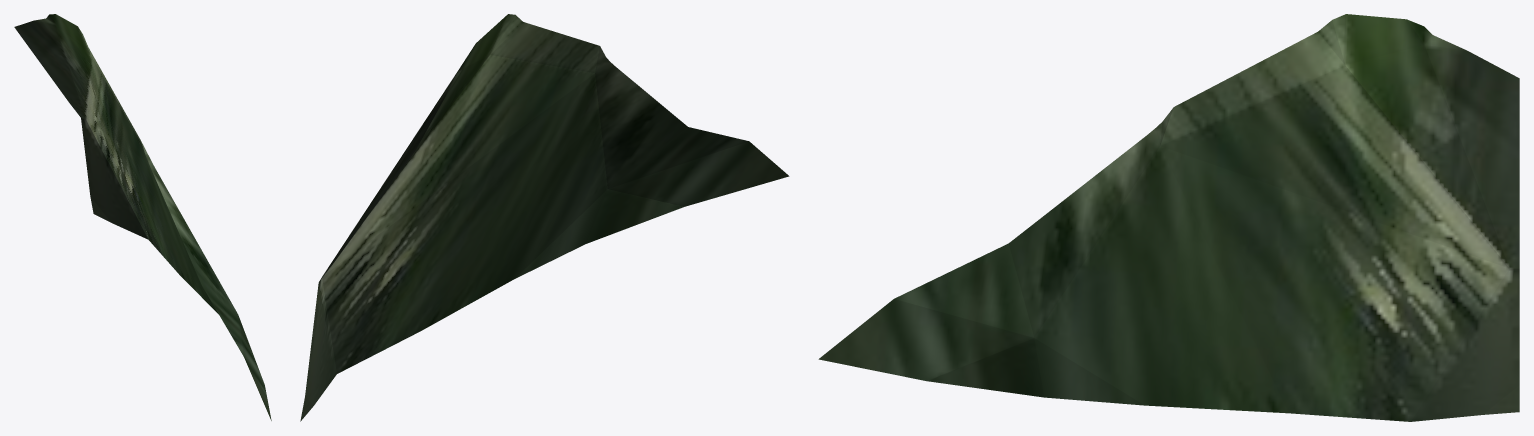
3 views of the same model, side by side, from view 1: azimuth 30°, elevation 25°; view 2: azimuth 150°, elevation 25°; view 3: azimuth 270°, elevation 25° (orthographic). The views are drawn at different scales.
Size of the model in its own units: 0.3926 by 1.01 by 1.86.
Materials: 1 (1 with a texture image).
